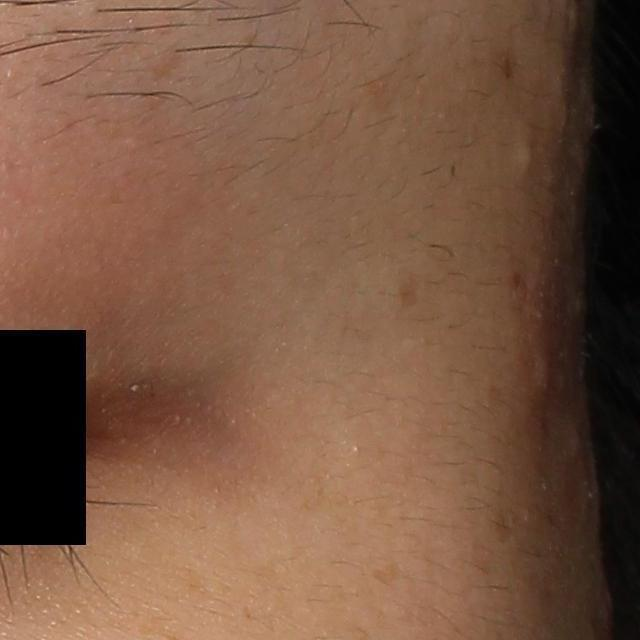comedo: (516, 140, 539, 175)
melasma: (367, 561, 406, 591)
